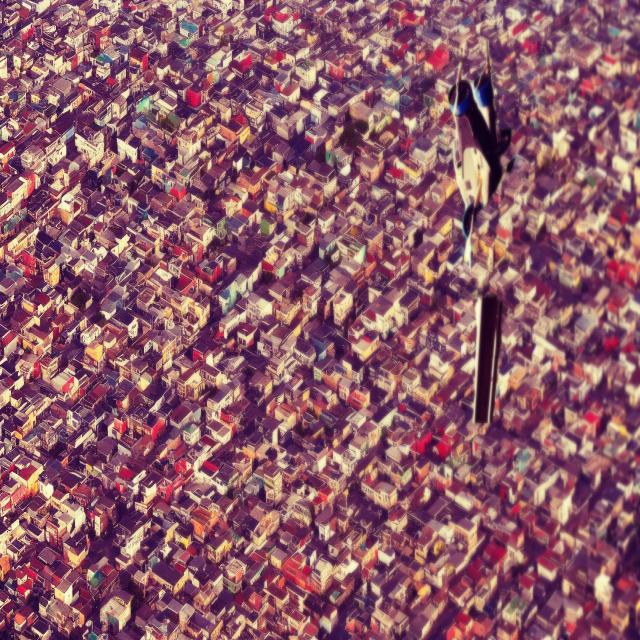airplane: (447, 37, 511, 423)
